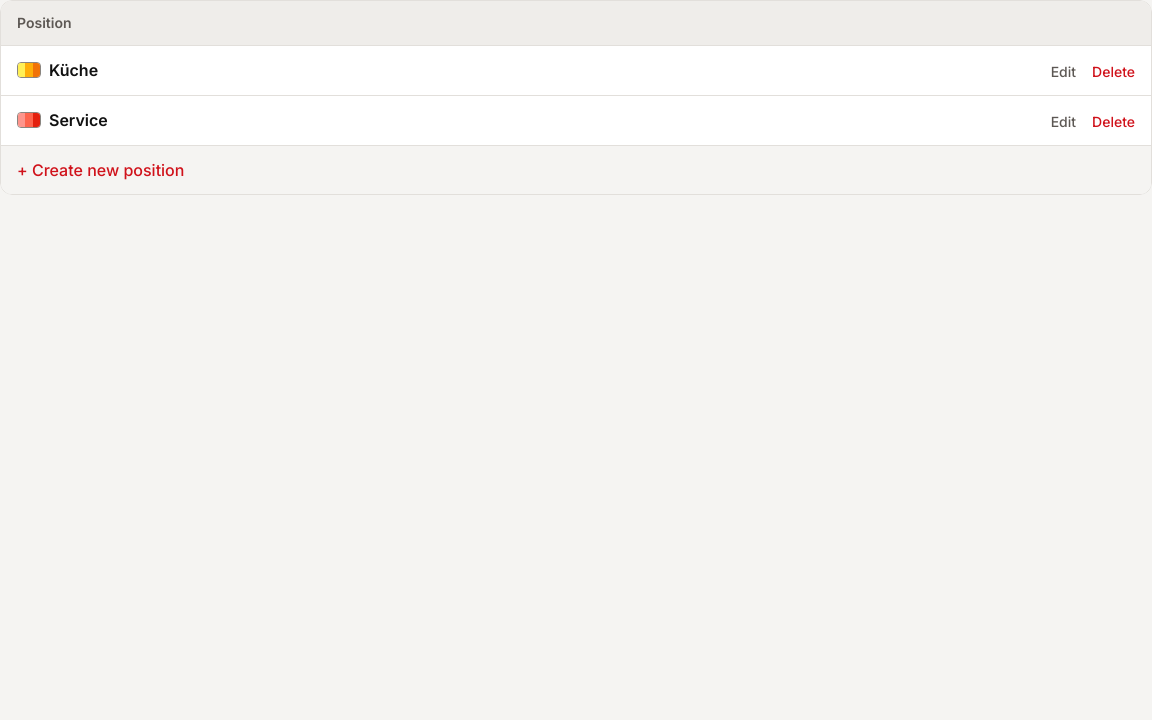
Test: PositionList › removes the position from the table once it is deleted
Click the button with aria-label "Delete Küche": (1114, 72) [1092,62,1135,82]
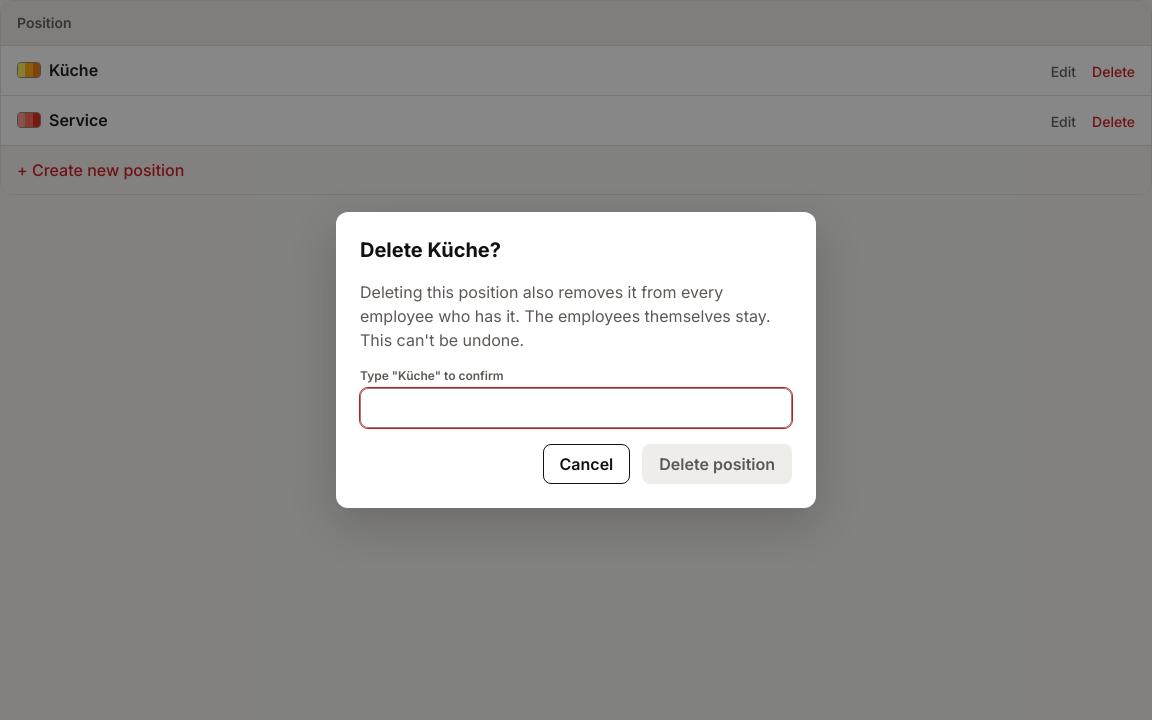
In the field labelled "Type \"Küche\" to confirm": (576, 408) [360,388,792,428], type "Küche"
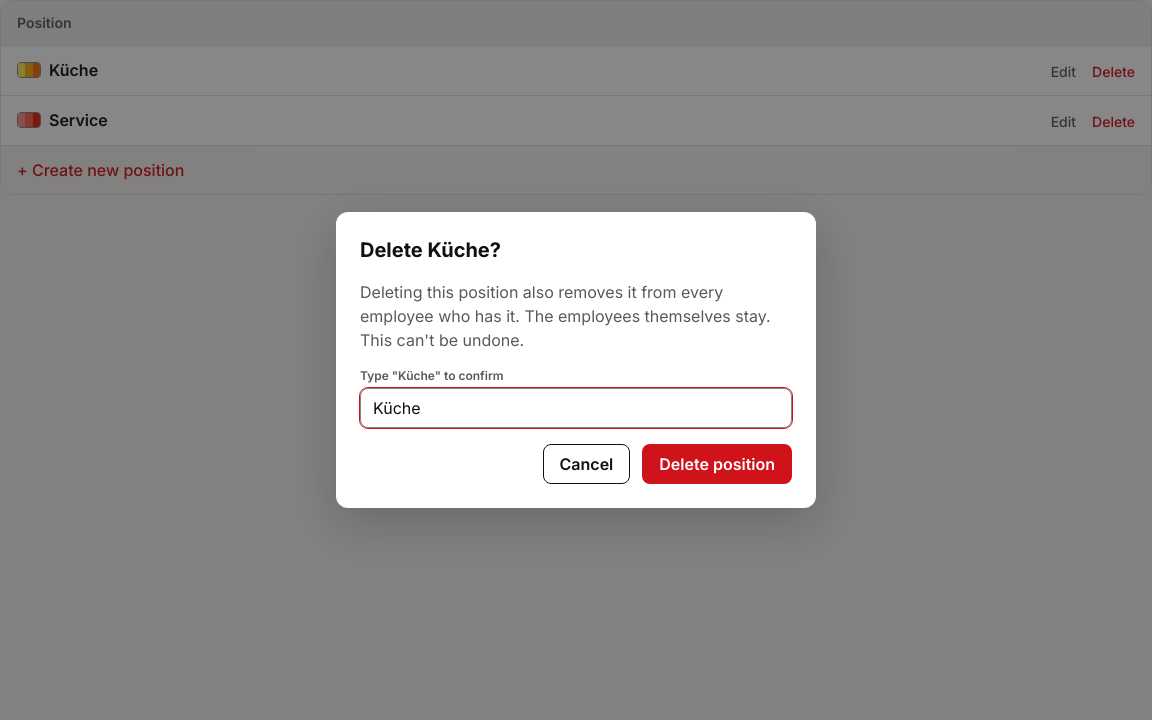
Click the button "Delete position": (717, 464) [642,444,792,484]
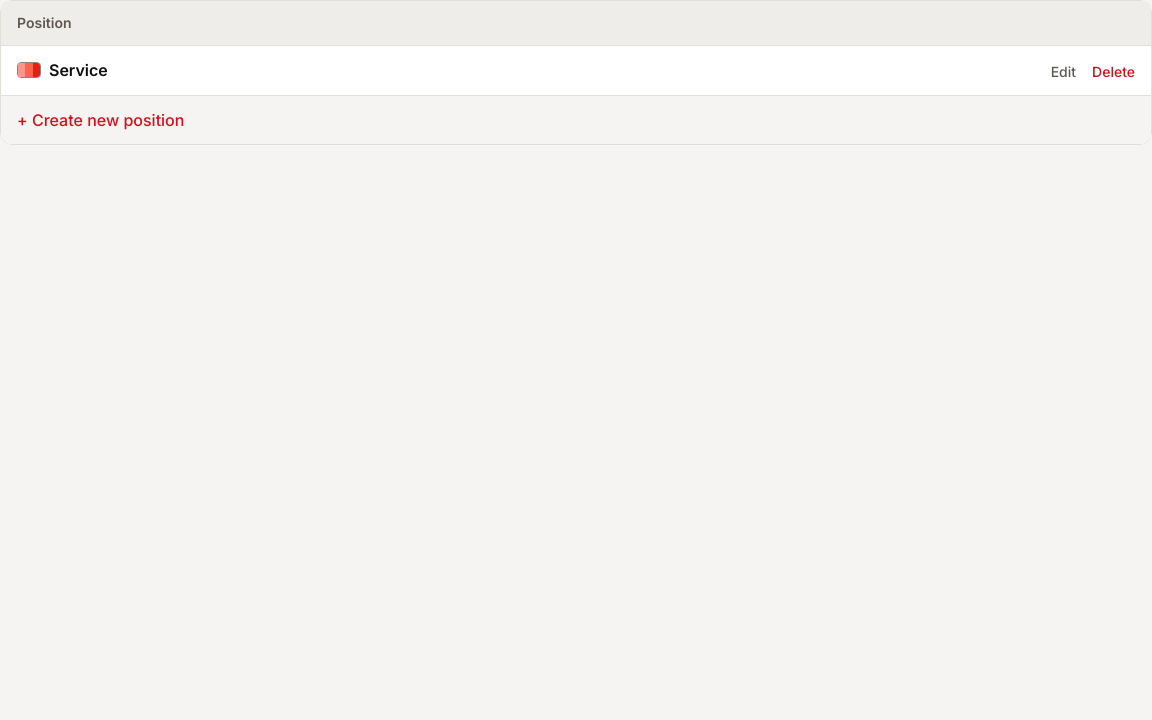
Expected: the column heading "Service" is shown, [1,46,1019,96]
Expected: the dialog is gone
Expected: the element "Küche" is gone
